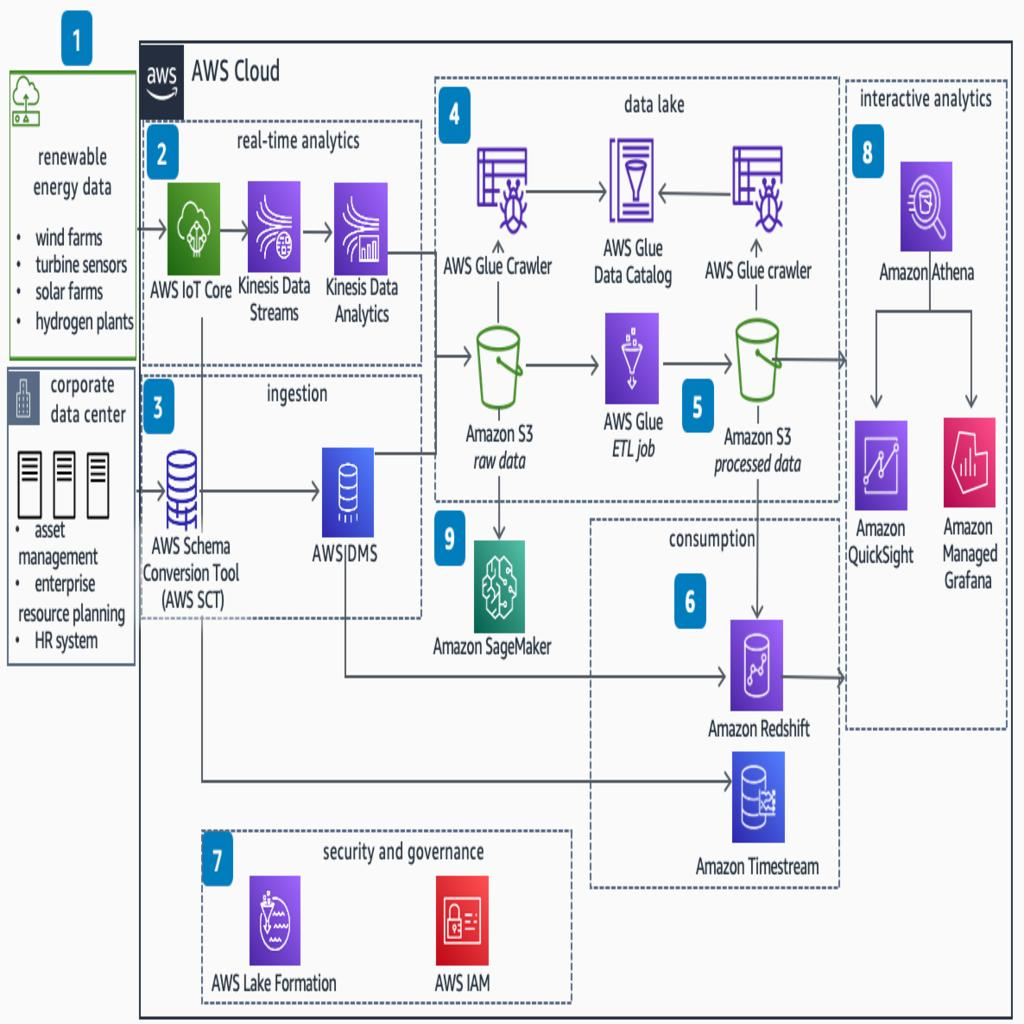actor: (8, 68, 136, 358), (8, 372, 136, 662)
compute: (480, 140, 524, 208), (736, 140, 780, 208), (158, 456, 202, 523), (328, 456, 372, 523), (608, 330, 652, 397), (859, 432, 902, 500), (946, 432, 989, 500), (171, 192, 214, 259), (253, 192, 296, 259), (339, 192, 382, 259), (475, 556, 518, 622), (902, 170, 945, 236)
data_flow: (442, 781, 1000, 786), (368, 509, 373, 847), (200, 251, 206, 476), (379, 676, 702, 680), (921, 262, 926, 446), (756, 423, 760, 556), (494, 438, 499, 540), (500, 215, 504, 287), (756, 215, 760, 287), (368, 248, 406, 254), (859, 351, 902, 356), (946, 351, 989, 356), (182, 487, 224, 492), (419, 361, 458, 366), (531, 361, 567, 366), (663, 361, 699, 366), (660, 172, 702, 176), (774, 361, 805, 366), (362, 448, 392, 453), (531, 172, 567, 176), (786, 676, 822, 680), (210, 223, 236, 228), (292, 223, 318, 228), (134, 223, 148, 228), (134, 487, 148, 492), (0, 0, 0, 1)
database_storage: (608, 140, 652, 208), (736, 330, 780, 397), (736, 632, 780, 699), (736, 765, 780, 832), (475, 330, 518, 397), (253, 880, 296, 947)
network_security: (440, 880, 482, 947)
trust_boundary: (140, 20, 1012, 1004), (434, 75, 834, 503), (842, 74, 1006, 729), (590, 515, 840, 888), (140, 118, 421, 369), (140, 371, 421, 622), (202, 836, 572, 990), (8, 68, 136, 358), (8, 372, 136, 662)
